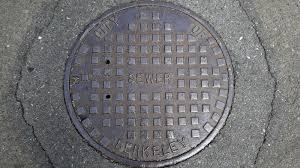closed manhole-not overflowing-: (58, 3, 241, 161)
